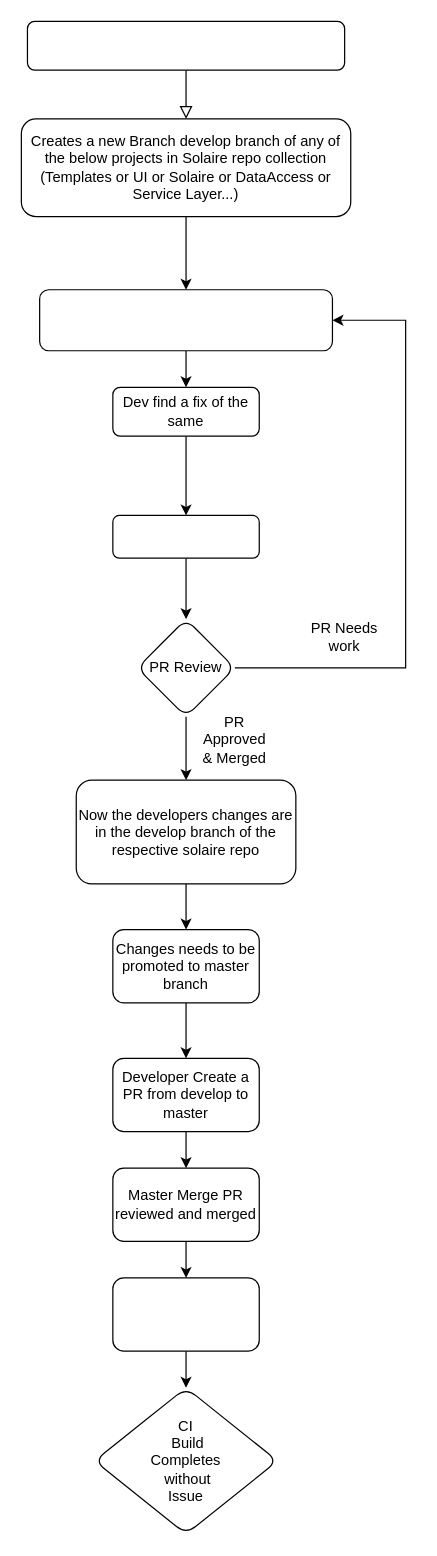
Image size: 437x1556. Some labels were removed from this diagram. Here are the shapes that lost their labels. From the top down, the centre of each, then its label:
[185,45]: Developer Gets Defect in redesign
[185,320]: Developer starts Working on the branch
[185,536]: PR Created
[185,1314]: Trigger Solaire CI Build
